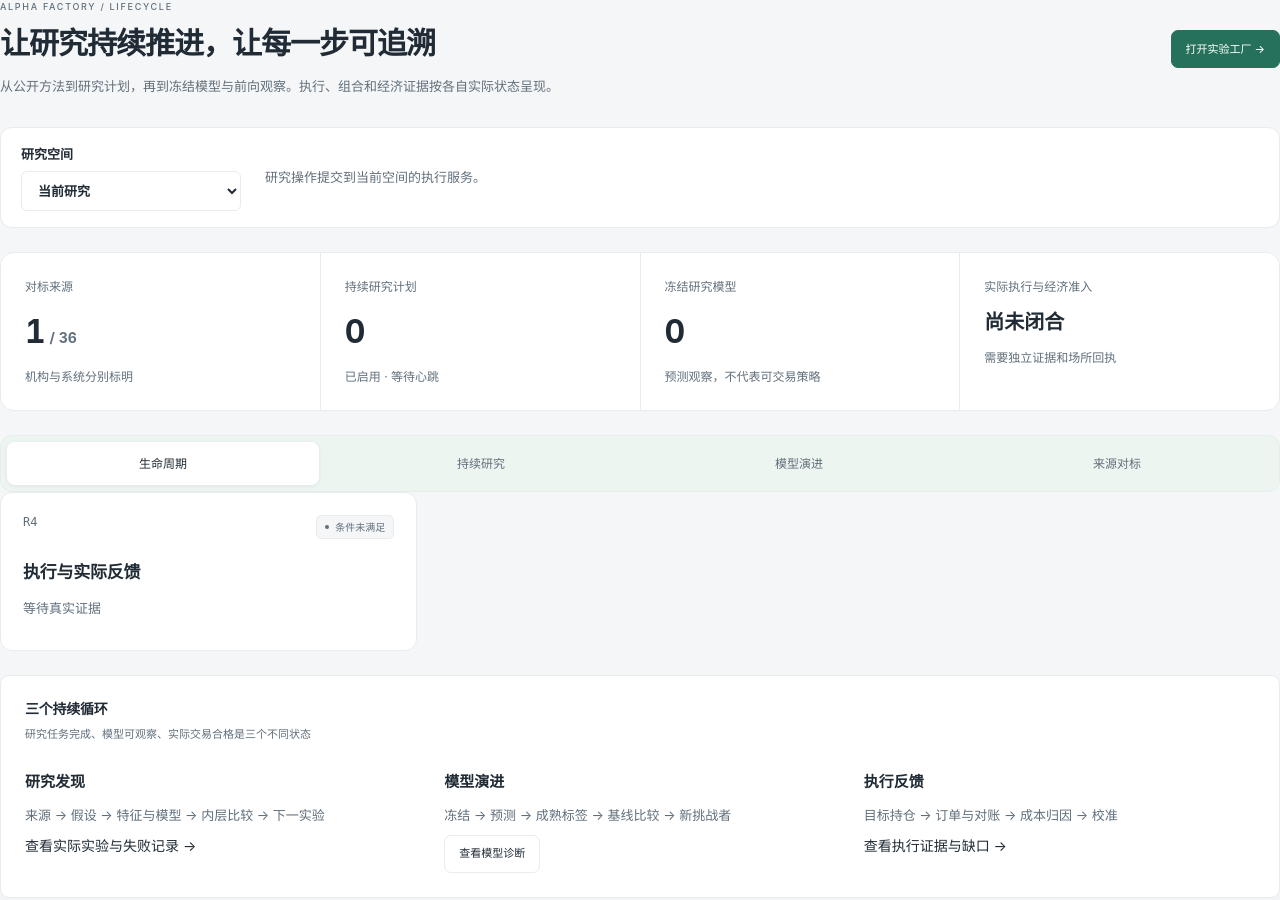
Test: supports keyboard navigation and searches actual source records
Check: the text "等待真实证据" is shown, box [23,600,101,616]
Press End in the tab "生命周期", box [7,442,319,485]
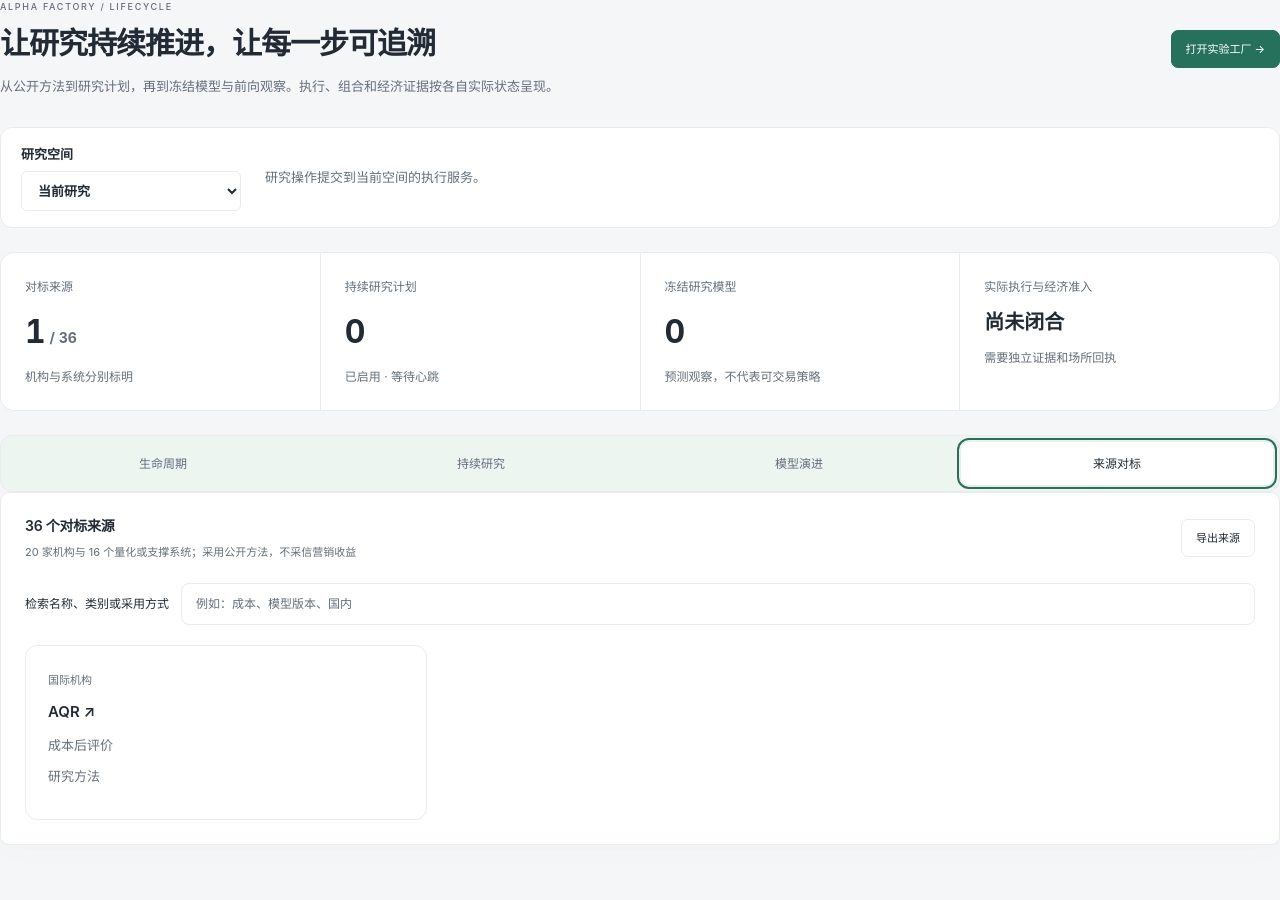
Type "missing" into the search field at (718, 604), box [181,583,1255,624]
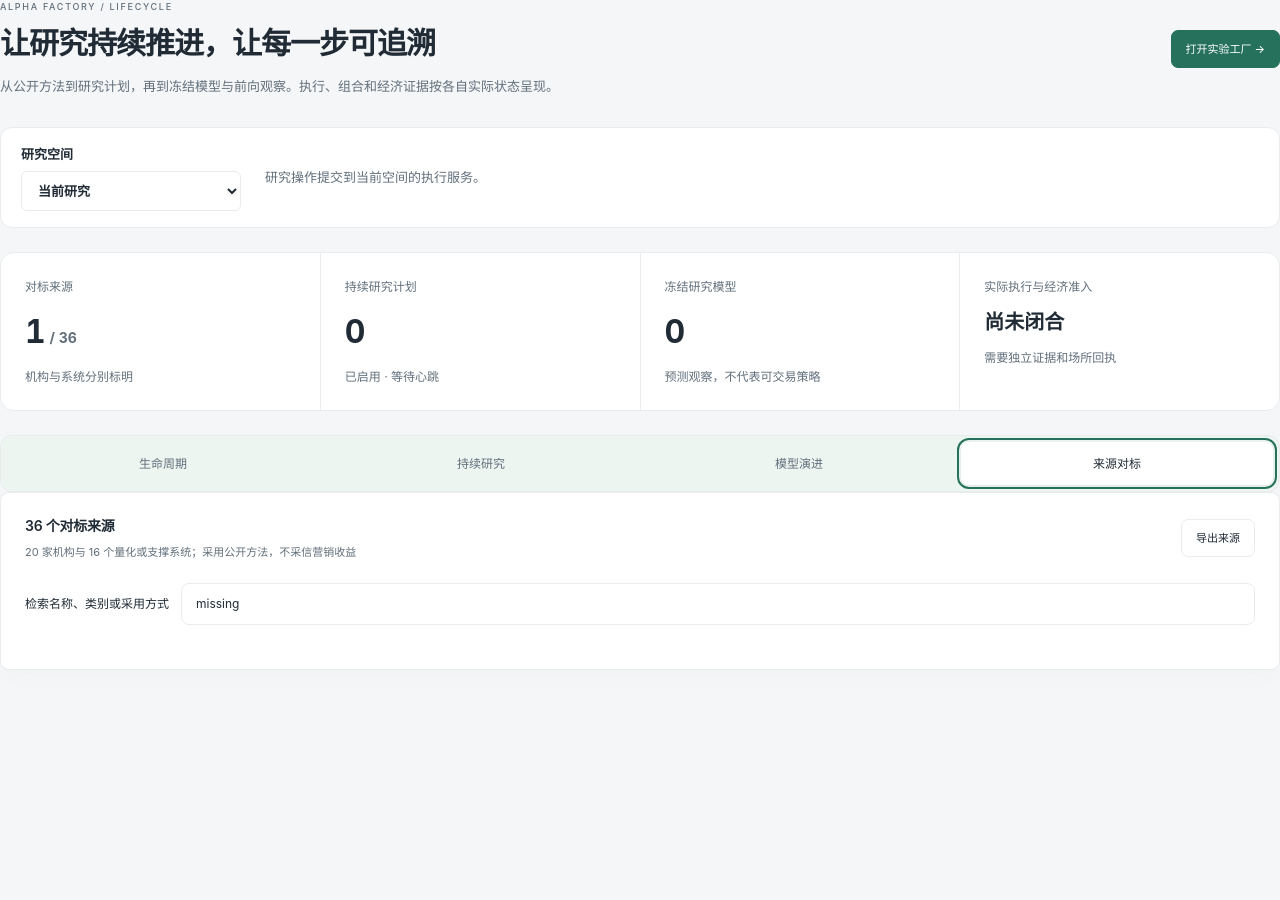
Check: the link "AQR ↗" is gone
